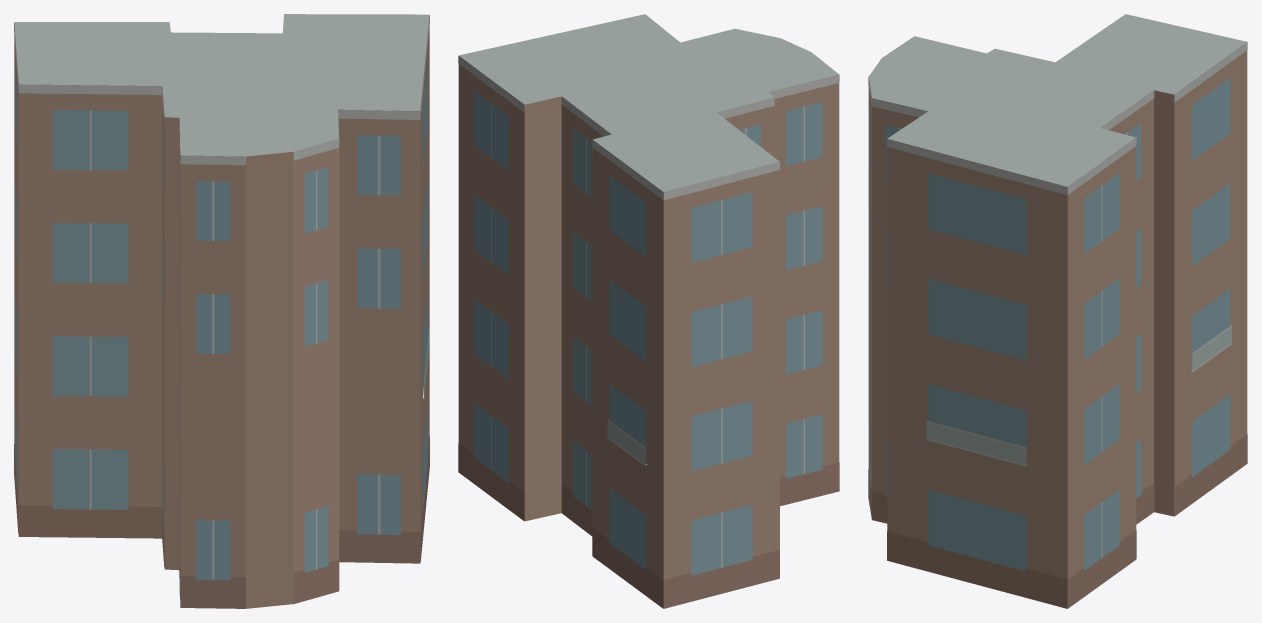
File: survey-upis-32474669.glb
3 renders of one model, left to right at view 1: azimuth 30°, elevation 25°; view 2: azimuth 150°, elevation 25°; view 3: azimuth 270°, elevation 25°, orthographic. The views are drawn at different scales.
Parts seen in each view (by area): view 1: survey-upis-32474669.tmp; view 2: survey-upis-32474669.tmp; view 3: survey-upis-32474669.tmp.
Boxes of the visible parts, x1,y1,x2,y2 form: survey-upis-32474669.tmp: (14, 14, 429, 608); survey-upis-32474669.tmp: (458, 14, 839, 608); survey-upis-32474669.tmp: (868, 14, 1247, 608).
Size of the model in its own units: 10.91 by 12.4 by 10.1.
